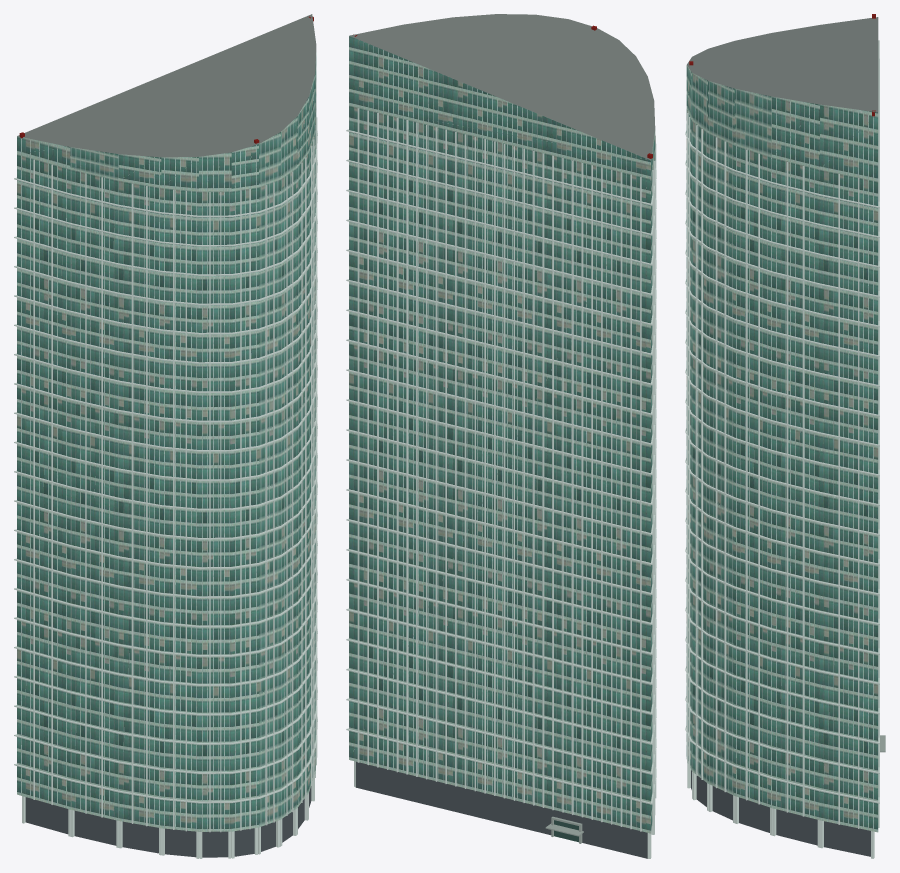
File: shiodome_city_center.glb
3 views of the same model, side by side, from view 1: azimuth 30°, elevation 25°; view 2: azimuth 150°, elevation 25°; view 3: azimuth 270°, elevation 25° (orthographic). The views are drawn at different scales.
Visible parts, largest first — view 1: shiodome_city_center; view 2: shiodome_city_center; view 3: shiodome_city_center.
Boxes of the visible parts, left/top/right/bottom form: shiodome_city_center: left=14, top=14, right=317, bottom=858; shiodome_city_center: left=346, top=14, right=656, bottom=858; shiodome_city_center: left=685, top=14, right=885, bottom=858.
Bounding box in the file's own units: 92 × 216 × 52.5.
Materials: 2 (2 with a texture image).
